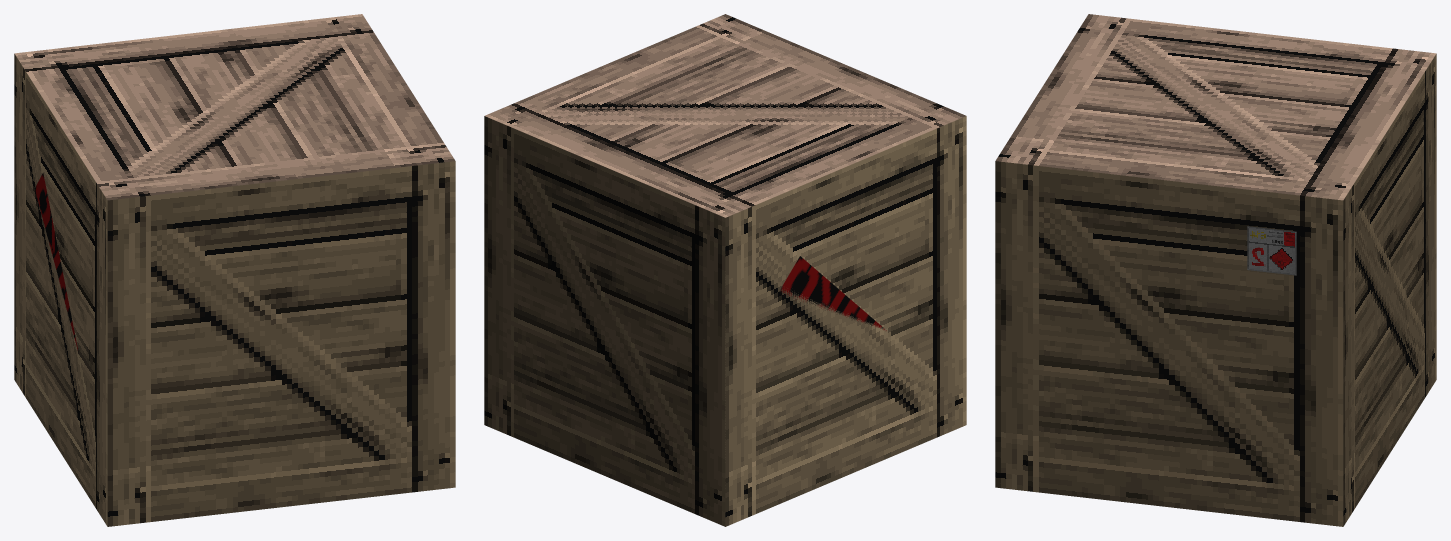
The model's file is primary_063.glb.
3 renders of one model, left to right at view 1: azimuth 30°, elevation 25°; view 2: azimuth 150°, elevation 25°; view 3: azimuth 270°, elevation 25°, orthographic. The views are drawn at different scales.
Parts seen in each view (by area): view 1: Object; view 2: Object; view 3: Object.
Part boxes in pixels (box(x1,y1,x2,y2)): Object: box(14, 14, 455, 526); Object: box(484, 14, 966, 526); Object: box(995, 14, 1436, 526).
Size of the model in its own units: 1.4 by 1.14 by 1.4.
7 materials, 7 textured.
